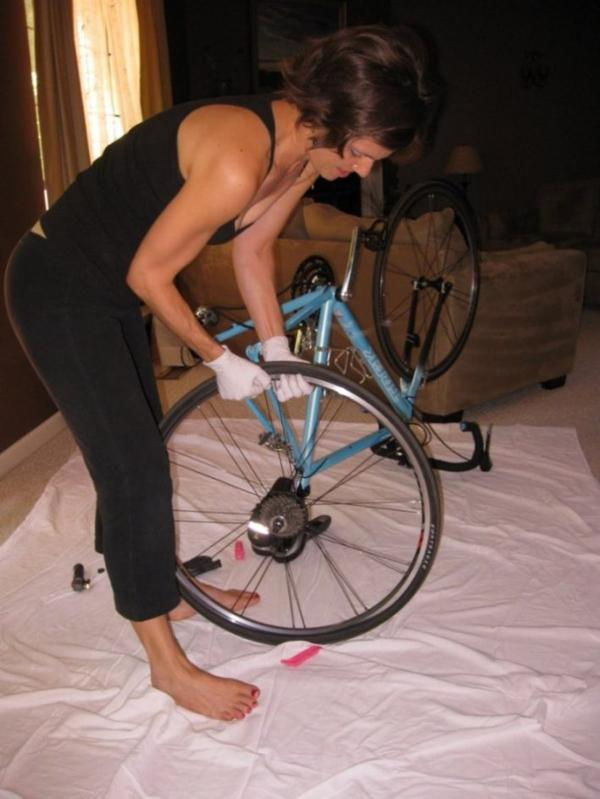person: (4, 30, 420, 724)
